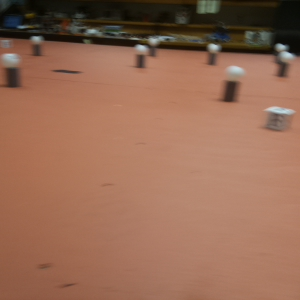obstacle: (222, 63, 241, 104), (1, 52, 22, 88), (279, 53, 292, 80), (31, 34, 44, 60), (135, 44, 148, 69), (207, 42, 220, 65), (274, 41, 289, 60), (148, 36, 158, 55)
